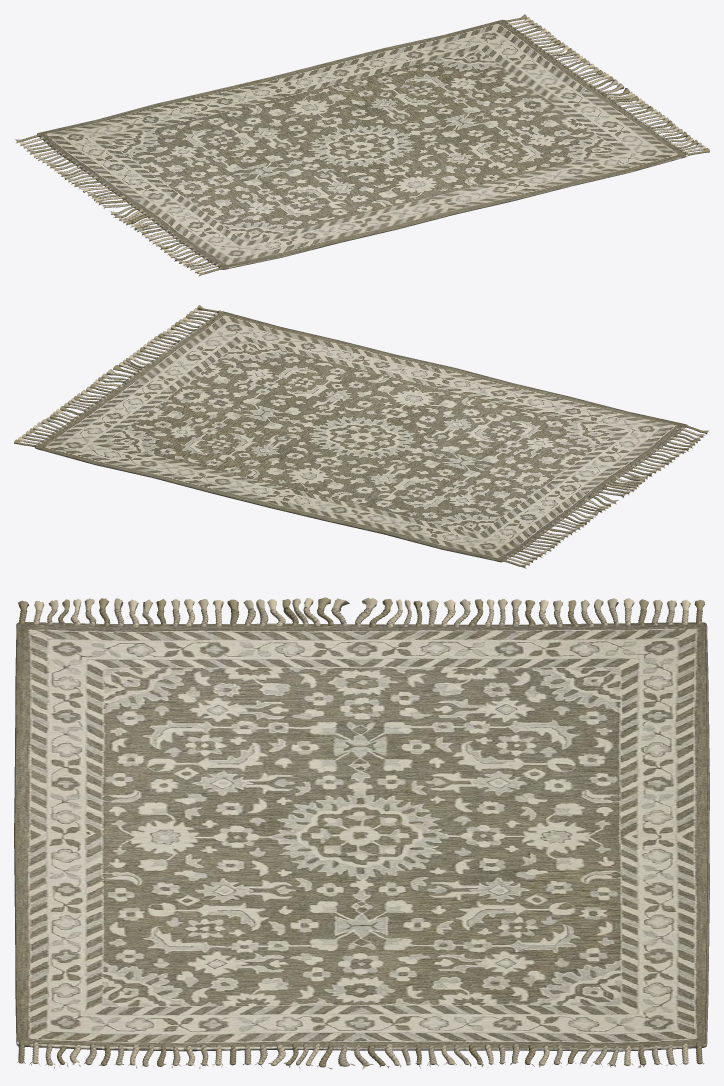
3 views of the same model, one above another, from view 1: azimuth 30°, elevation 25°; view 2: azimuth 150°, elevation 25°; view 3: azimuth 270°, elevation 25° (orthographic). The views are drawn at different scales.
Visible parts, largest first — view 1: RootNode; view 2: RootNode; view 3: RootNode.
Part boxes in pixels (x1=…): RootNode: x1=15, y1=14, x2=709, y2=276; RootNode: x1=14, y1=305, x2=709, y2=568; RootNode: x1=14, y1=597, x2=709, y2=1069.
Size of the model in its own units: 2.43 by 0.0249 by 1.53.
Materials: 1 (1 with a texture image).
